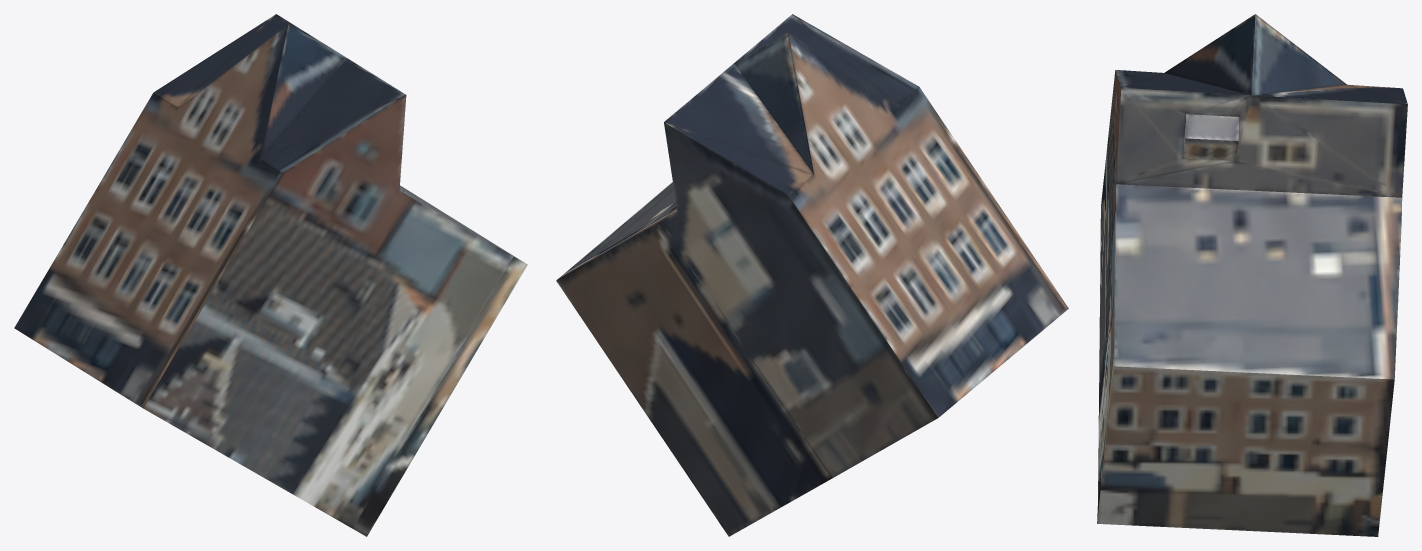
3 views of the same model, side by side, from view 1: azimuth 30°, elevation 25°; view 2: azimuth 150°, elevation 25°; view 3: azimuth 270°, elevation 25° (orthographic). The views are drawn at different scales.
Visible parts, largest first — view 1: BAG_0599100000671723 (×3); view 2: BAG_0599100000671723 (×3); view 3: BAG_0599100000671723 (×5).
Part boxes in pixels (left/top/right/bottom): BAG_0599100000671723 (×3): left=14, top=14, right=527, bottom=536; BAG_0599100000671723 (×3): left=556, top=14, right=1068, bottom=536; BAG_0599100000671723 (×5): left=1097, top=14, right=1407, bottom=536.
Bounding box in the file's own units: 20.84 × 24.19 × 13.09.
Materials: 1 (1 with a texture image).
